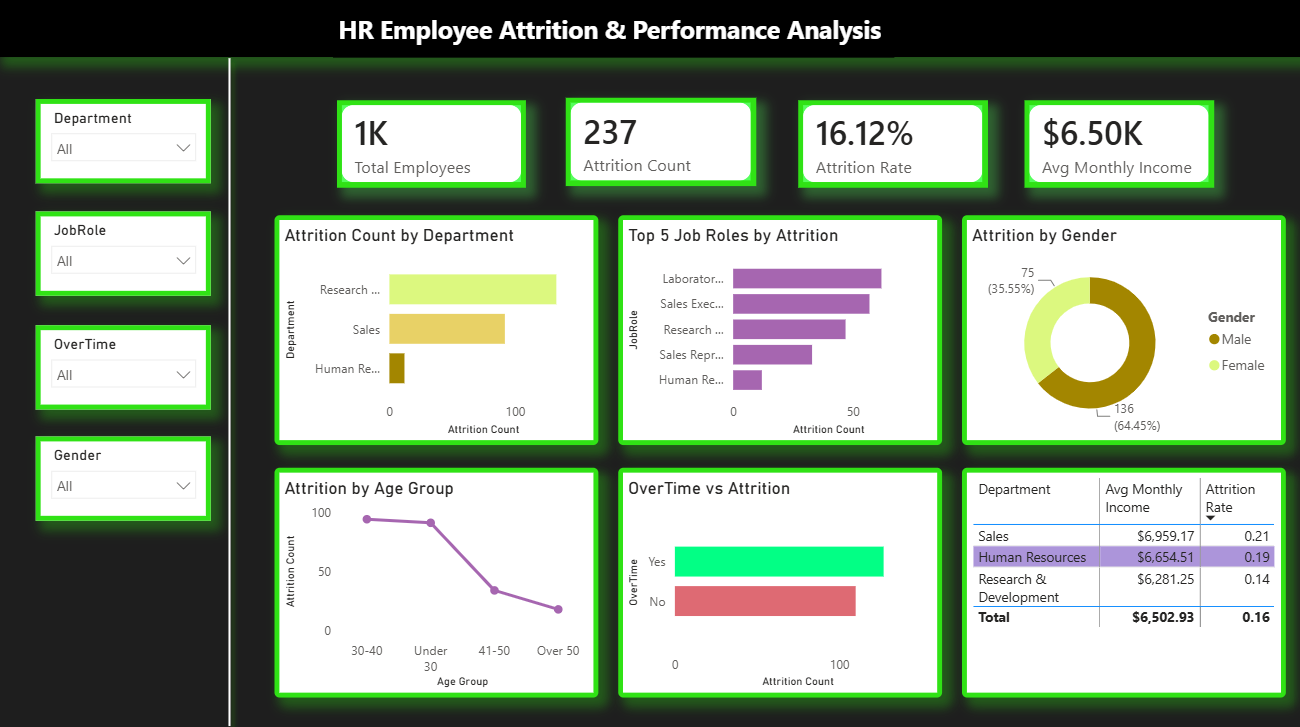

The page's visual inventory and layout, read from the dashboard file:
{"tool":"powerbi","page":{"name":"Page 1","canvas":[1280,720],"ordinal":0},"visuals":[{"type":"actionButton","box":[0,0,100,40],"z":0},{"type":"shape","box":[0,0,1280,720],"z":1000},{"type":"cardVisual","fields":{"Data":["HR_Attrition.Total Employees"]},"box":[332.4,98.8,185,85.7],"z":2000},{"type":"cardVisual","fields":{"Data":["HR_Attrition.Attrition Count"]},"box":[556.4,96.9,186.6,86.4],"z":3000},{"type":"cardVisual","fields":{"Data":["HR_Attrition.Attrition Rate"]},"box":[783.9,98.8,185.7,85.7],"z":4000},{"type":"cardVisual","fields":{"Data":["HR_Attrition.Avg Monthly Income"]},"box":[1005.3,98.8,185.7,85.7],"z":5000},{"type":"clusteredBarChart","fields":{"Y":["HR_Attrition.Attrition Count"],"Category":["HR_Attrition.Department"]},"box":[271.7,210.9,317,225],"z":6000},{"type":"clusteredBarChart","title":"Top 5 Job Roles by Attrition","fields":{"Y":["HR_Attrition.Attrition Count"],"Category":["HR_Attrition.JobRole"]},"box":[607.9,210.9,317,225],"z":7000},{"type":"donutChart","title":"Attrition by Gender","fields":{"Y":["HR_Attrition.Attrition Count"],"Category":["HR_Attrition.Gender"]},"box":[944.1,210.9,317,225],"z":8000},{"type":"lineChart","title":"Attrition by Age Group","fields":{"Y":["HR_Attrition.Attrition Count"],"Category":["HR_Attrition.Age Group"]},"box":[272,458.2,317,225],"z":9000},{"type":"clusteredBarChart","title":"OverTime vs Attrition","fields":{"Y":["HR_Attrition.Attrition Count"],"Category":["HR_Attrition.OverTime"]},"box":[608.2,458.2,317,225],"z":10000},{"type":"tableEx","title":"OverTime vs Attrition","fields":{"Values":["HR_Attrition.Department","HR_Attrition.Avg Monthly Income","HR_Attrition.Attrition Rate"]},"box":[944.4,458.2,317,225],"z":11000},{"type":"slicer","fields":{"Values":["HR_Attrition.Department"]},"box":[37.3,97.3,171.5,82.3],"z":12000},{"type":"slicer","fields":{"Values":["HR_Attrition.JobRole"]},"box":[37.3,208.5,171.5,82.3],"z":13000},{"type":"slicer","fields":{"Values":["HR_Attrition.OverTime"]},"box":[37.3,319.6,171.5,82.3],"z":14000},{"type":"slicer","fields":{"Values":["HR_Attrition.Gender"]},"box":[37.3,428,171.5,82.3],"z":15000},{"type":"shape","box":[0,0,1280,57.1],"z":16000},{"type":"textbox","box":[328.6,8.6,548.6,48.6],"z":17000},{"type":"shape","box":[209.1,48.9,36.7,671.3],"z":18000}]}

Visuals, with their boxes in screenshot pixels (x1, y1, x2, y2), scaled from the page's 1280x720 canvas onto the 1300x727 screenshot:
actionButton: box=[0, 0, 102, 40]
shape: box=[0, 0, 1299, 726]
cardVisual - HR_Attrition.Total Employees: box=[338, 100, 525, 186]
cardVisual - HR_Attrition.Attrition Count: box=[565, 98, 755, 185]
cardVisual - HR_Attrition.Attrition Rate: box=[796, 100, 985, 186]
cardVisual - HR_Attrition.Avg Monthly Income: box=[1021, 100, 1210, 186]
clusteredBarChart - HR_Attrition.Attrition Count x HR_Attrition.Department: box=[276, 213, 598, 440]
"Top 5 Job Roles by Attrition" clusteredBarChart: box=[617, 213, 939, 440]
"Attrition by Gender" donutChart: box=[959, 213, 1281, 440]
"Attrition by Age Group" lineChart: box=[276, 463, 598, 690]
"OverTime vs Attrition" clusteredBarChart: box=[618, 463, 940, 690]
"OverTime vs Attrition" tableEx: box=[959, 463, 1281, 690]
slicer - HR_Attrition.Department: box=[38, 98, 212, 181]
slicer - HR_Attrition.JobRole: box=[38, 211, 212, 294]
slicer - HR_Attrition.OverTime: box=[38, 323, 212, 406]
slicer - HR_Attrition.Gender: box=[38, 432, 212, 515]
shape: box=[0, 0, 1299, 58]
textbox: box=[334, 9, 891, 58]
shape: box=[212, 49, 250, 726]
